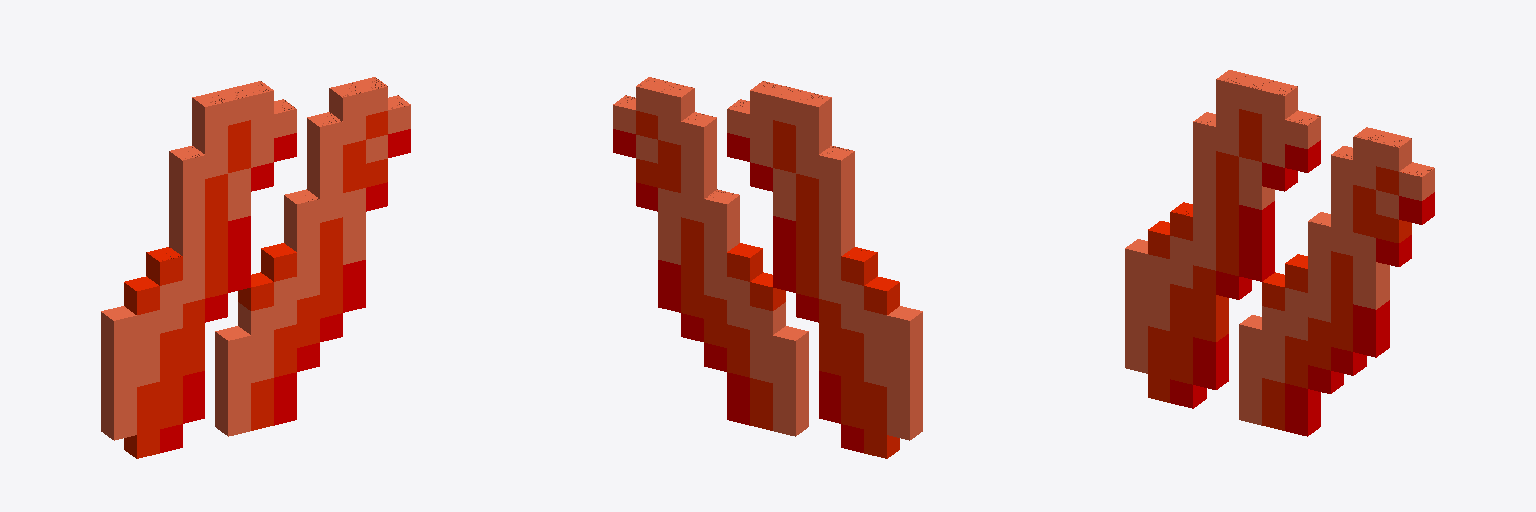
The picture shows the model from 3 angles: view 1: azimuth 30°, elevation 25°; view 2: azimuth 150°, elevation 25°; view 3: azimuth 330°, elevation 25°; orthographic projection.
Size of the model in its own units: 0.8125 by 0.875 by 0.0625.
1 materials, 1 textured.